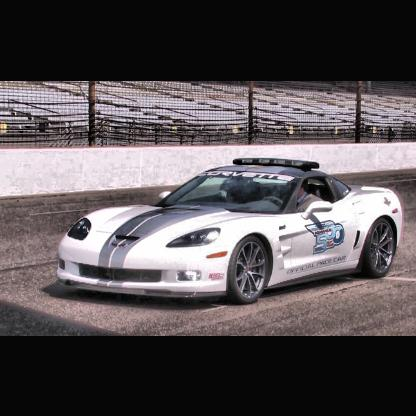Chevrolet Corvette ZR1 2012: (57, 157, 404, 308)
